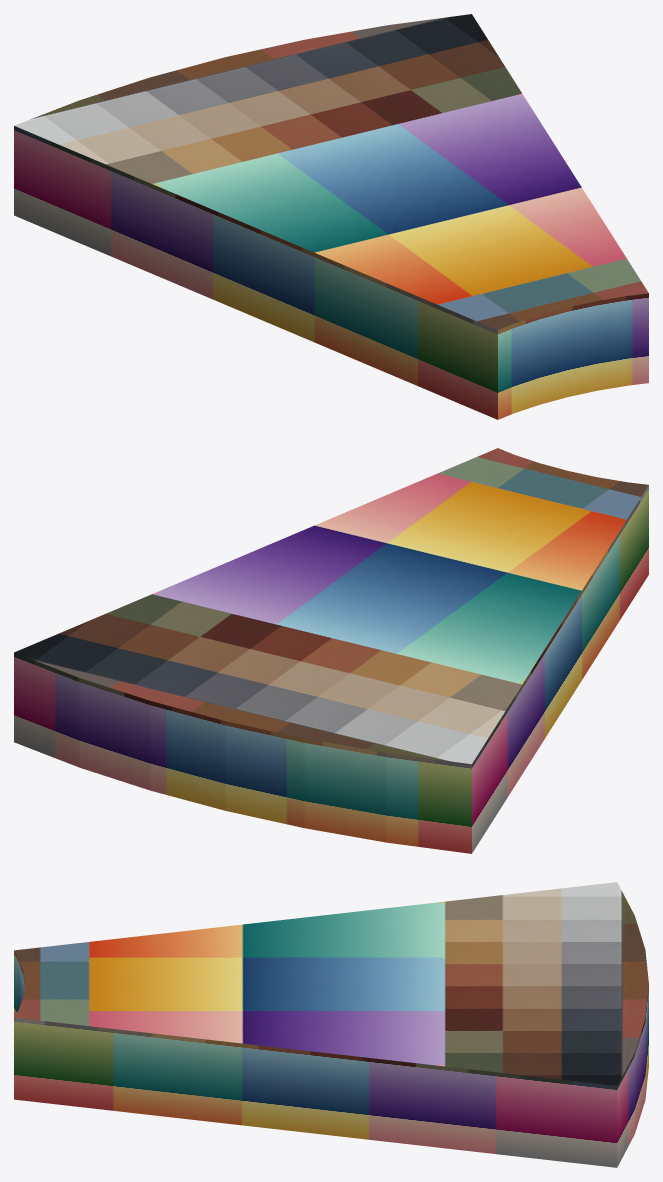
File: boss_1_pizza.obj
3 renders of one model, top to bottom at view 1: azimuth 30°, elevation 25°; view 2: azimuth 150°, elevation 25°; view 3: azimuth 270°, elevation 25°, orthographic. The views are drawn at different scales.
Visible parts, largest first — view 1: Circle.001; view 2: Circle.001; view 3: Circle.001.
Part boxes in pixels (x1,y1,x2,y2): Circle.001: (14,14,648,419); Circle.001: (14,448,648,853); Circle.001: (14,882,648,1167).
Bounding box in the file's own units: 9.84 × 1.84 × 12.94.
